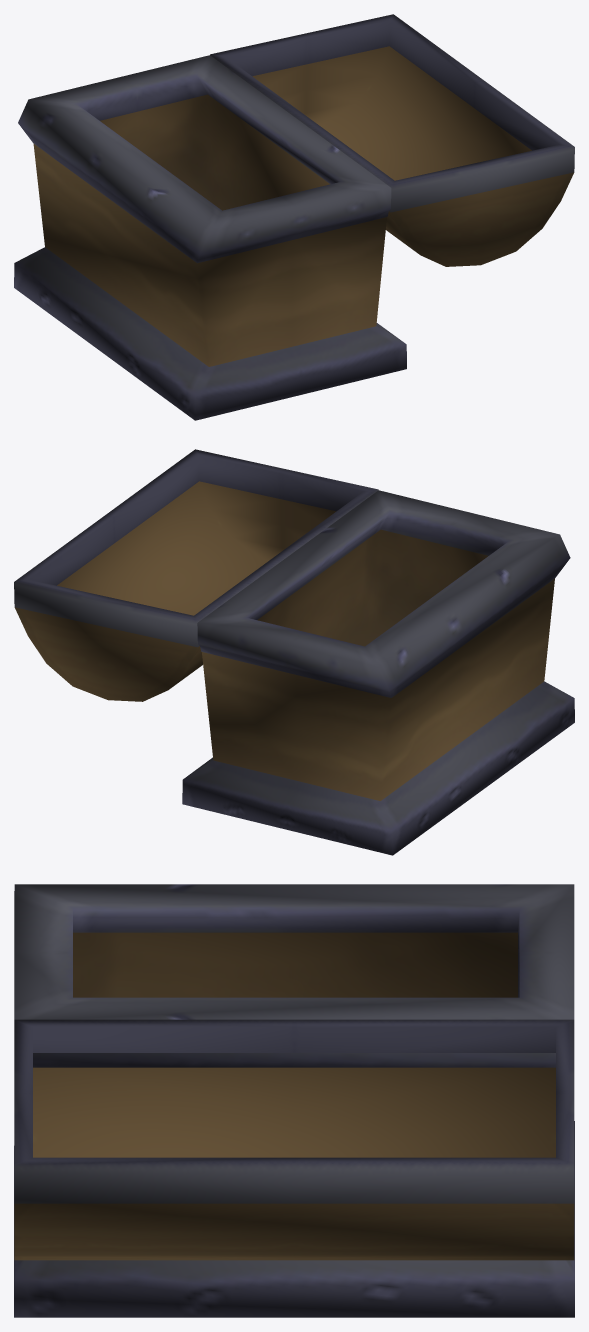
The model's file is cofre_Dana Grajeda.fbx.
3 views of the same model, one above another, from view 1: azimuth 30°, elevation 25°; view 2: azimuth 150°, elevation 25°; view 3: azimuth 270°, elevation 25° (orthographic). The views are drawn at different scales.
Visible parts, largest first — view 1: Chest_Bottom, Chest_Top; view 2: Chest_Bottom, Chest_Top; view 3: Chest_Top, Chest_Bottom.
Part boxes in pixels (<box>): Chest_Bottom: <box>14,55,406,420</box>; Chest_Top: <box>210,14,574,266</box>; Chest_Bottom: <box>182,490,574,855</box>; Chest_Top: <box>14,449,378,701</box>; Chest_Top: <box>14,1019,574,1260</box>; Chest_Bottom: <box>14,884,574,1317</box>.
Size of the model in its own units: 242 by 113 by 200.
Materials: 1 (1 with a texture image).
